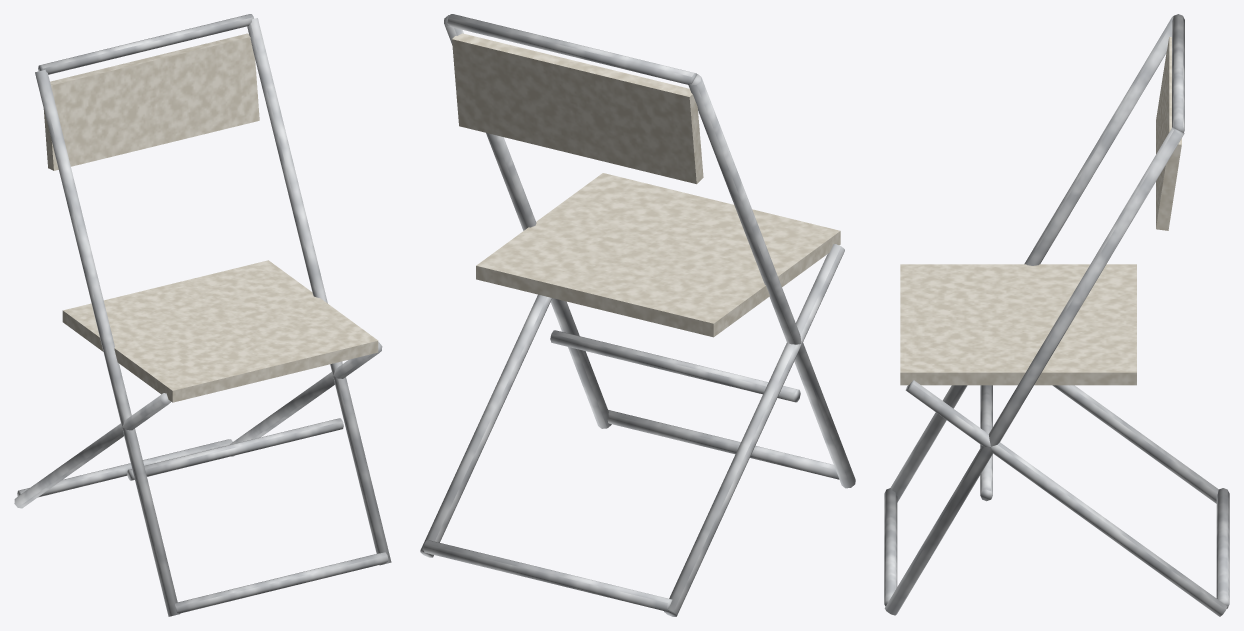
Rendered from silla_plegable.obj.
The picture shows the model from 3 angles, left to right: view 1: azimuth 30°, elevation 25°; view 2: azimuth 150°, elevation 25°; view 3: azimuth 270°, elevation 25°; orthographic projection. The views are drawn at different scales.
Visible parts, largest first — view 1: Estructura, Asiento, Respaldo; view 2: Estructura, Asiento, Respaldo; view 3: Asiento, Estructura, Respaldo.
Boxes of the visible parts, box(x1,y1,x2,y2) form: Estructura: box(14, 14, 391, 616); Asiento: box(62, 260, 378, 402); Respaldo: box(43, 33, 259, 170); Estructura: box(420, 14, 855, 616); Asiento: box(476, 173, 840, 337); Respaldo: box(452, 33, 703, 184); Asiento: box(900, 264, 1136, 385); Estructura: box(884, 14, 1229, 616); Respaldo: box(1156, 37, 1181, 230).
Bounding box in the file's own units: 0.432 × 0.8486 × 0.54.
Materials: 2 (2 with a texture image).
